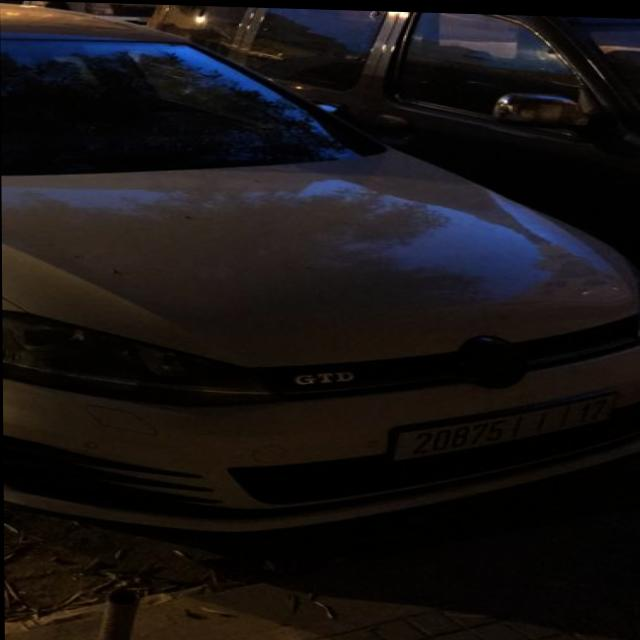License-Plate: (392, 390, 616, 457)
